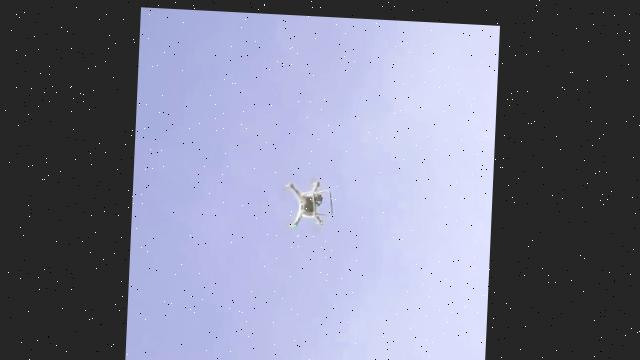drone: (281, 170, 341, 240)
